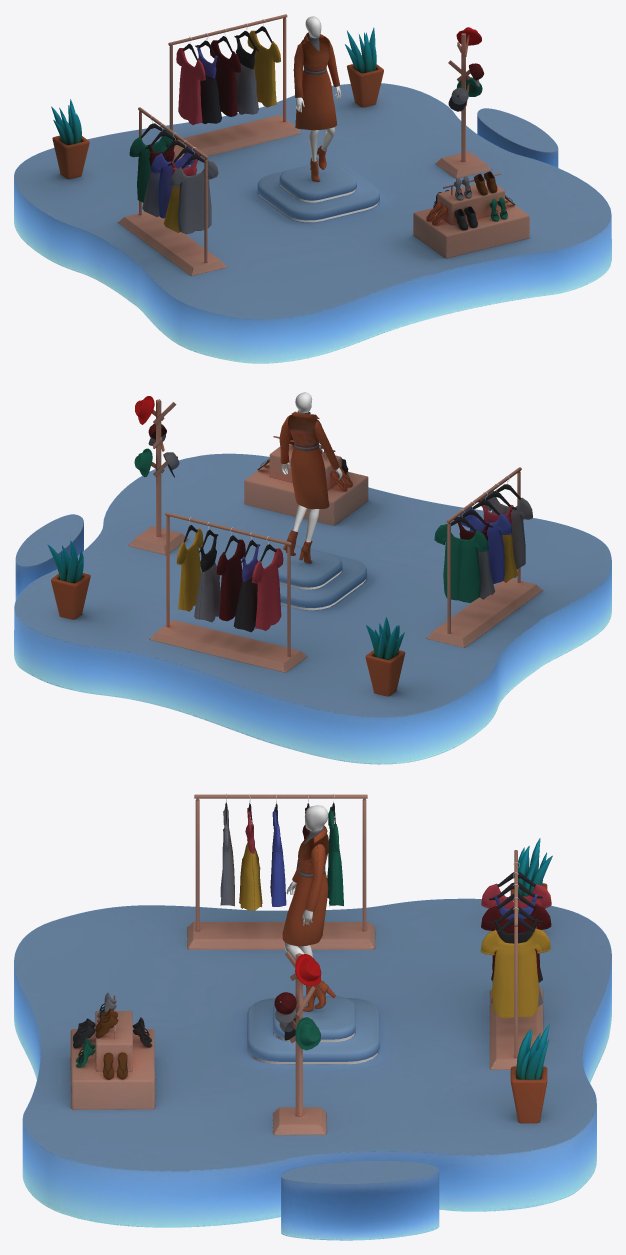
File: LeviCam3.glb
The picture shows the model from 3 angles, top to bottom: view 1: azimuth 30°, elevation 25°; view 2: azimuth 150°, elevation 25°; view 3: azimuth 270°, elevation 25°; orthographic projection. The views are drawn at different scales.
Parts seen in each view (by area): view 1: LeviCamBs, LeviCamSet, LeviCamManneBody, LeviCamBsGlw; view 2: LeviCamBs, LeviCamSet, LeviCamManneBody; view 3: LeviCamBs, LeviCamSet, LeviCamManneBody.
Boxes of the visible parts, left/top/right/bottom form: LeviCamBs: left=14, top=83, right=611, bottom=363; LeviCamSet: left=51, top=14, right=529, bottom=275; LeviCamManneBody: left=295, top=16, right=341, bottom=161; LeviCamBsGlw: left=258, top=185, right=378, bottom=222; LeviCamBs: left=14, top=453, right=611, bottom=764; LeviCamSet: left=47, top=396, right=542, bottom=696; LeviCamManneBody: left=281, top=392, right=342, bottom=542; LeviCamBs: left=14, top=898, right=611, bottom=1240; LeviCamSet: left=70, top=793, right=552, bottom=1134; LeviCamManneBody: left=284, top=805, right=328, bottom=960.
Bounding box in the file's own units: 7.58 × 3.53 × 6.72.
5 materials, 2 textured.
